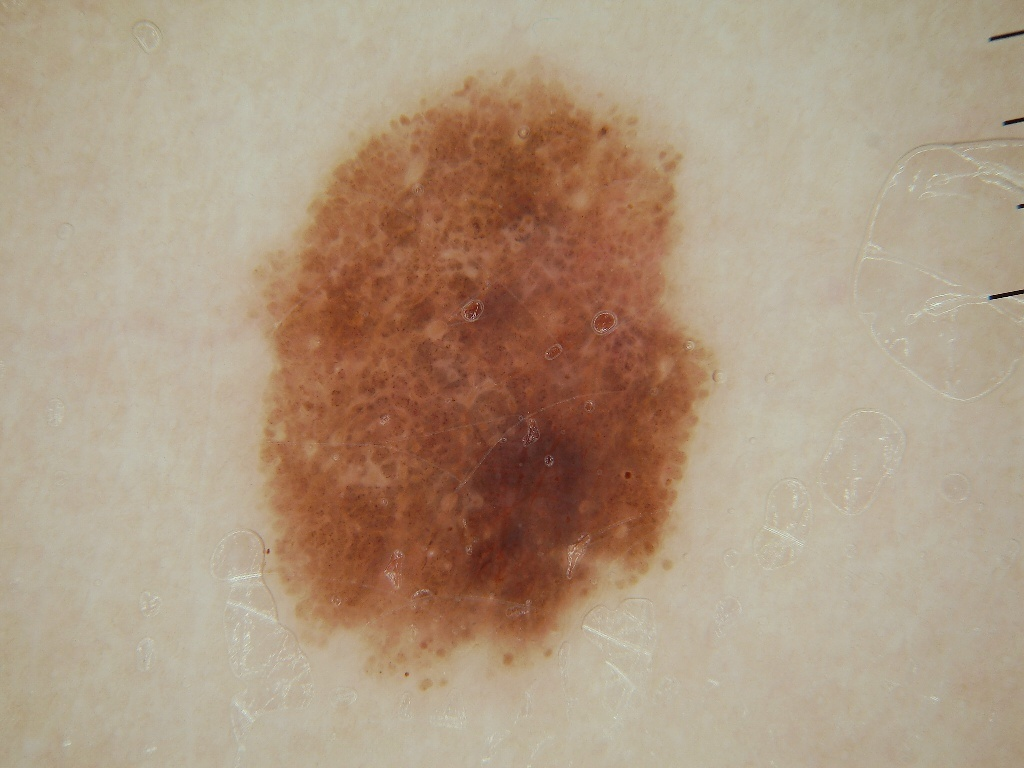Detected Lesion: (238, 56, 732, 687)
